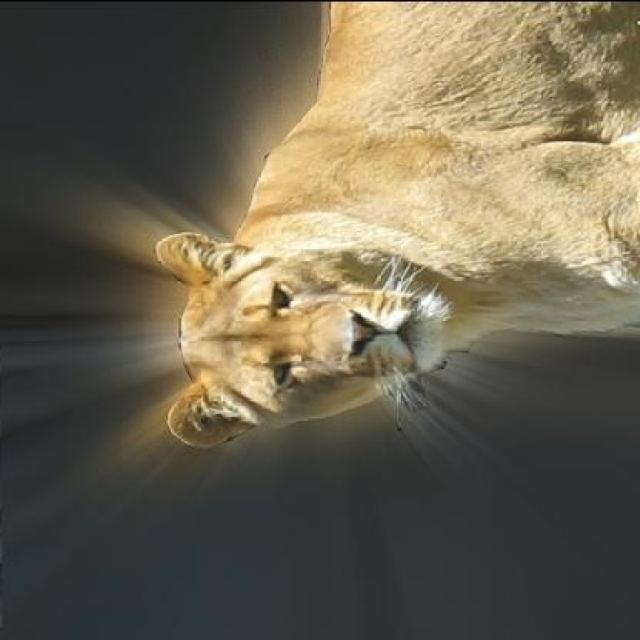Lion: (121, 2, 638, 490)
